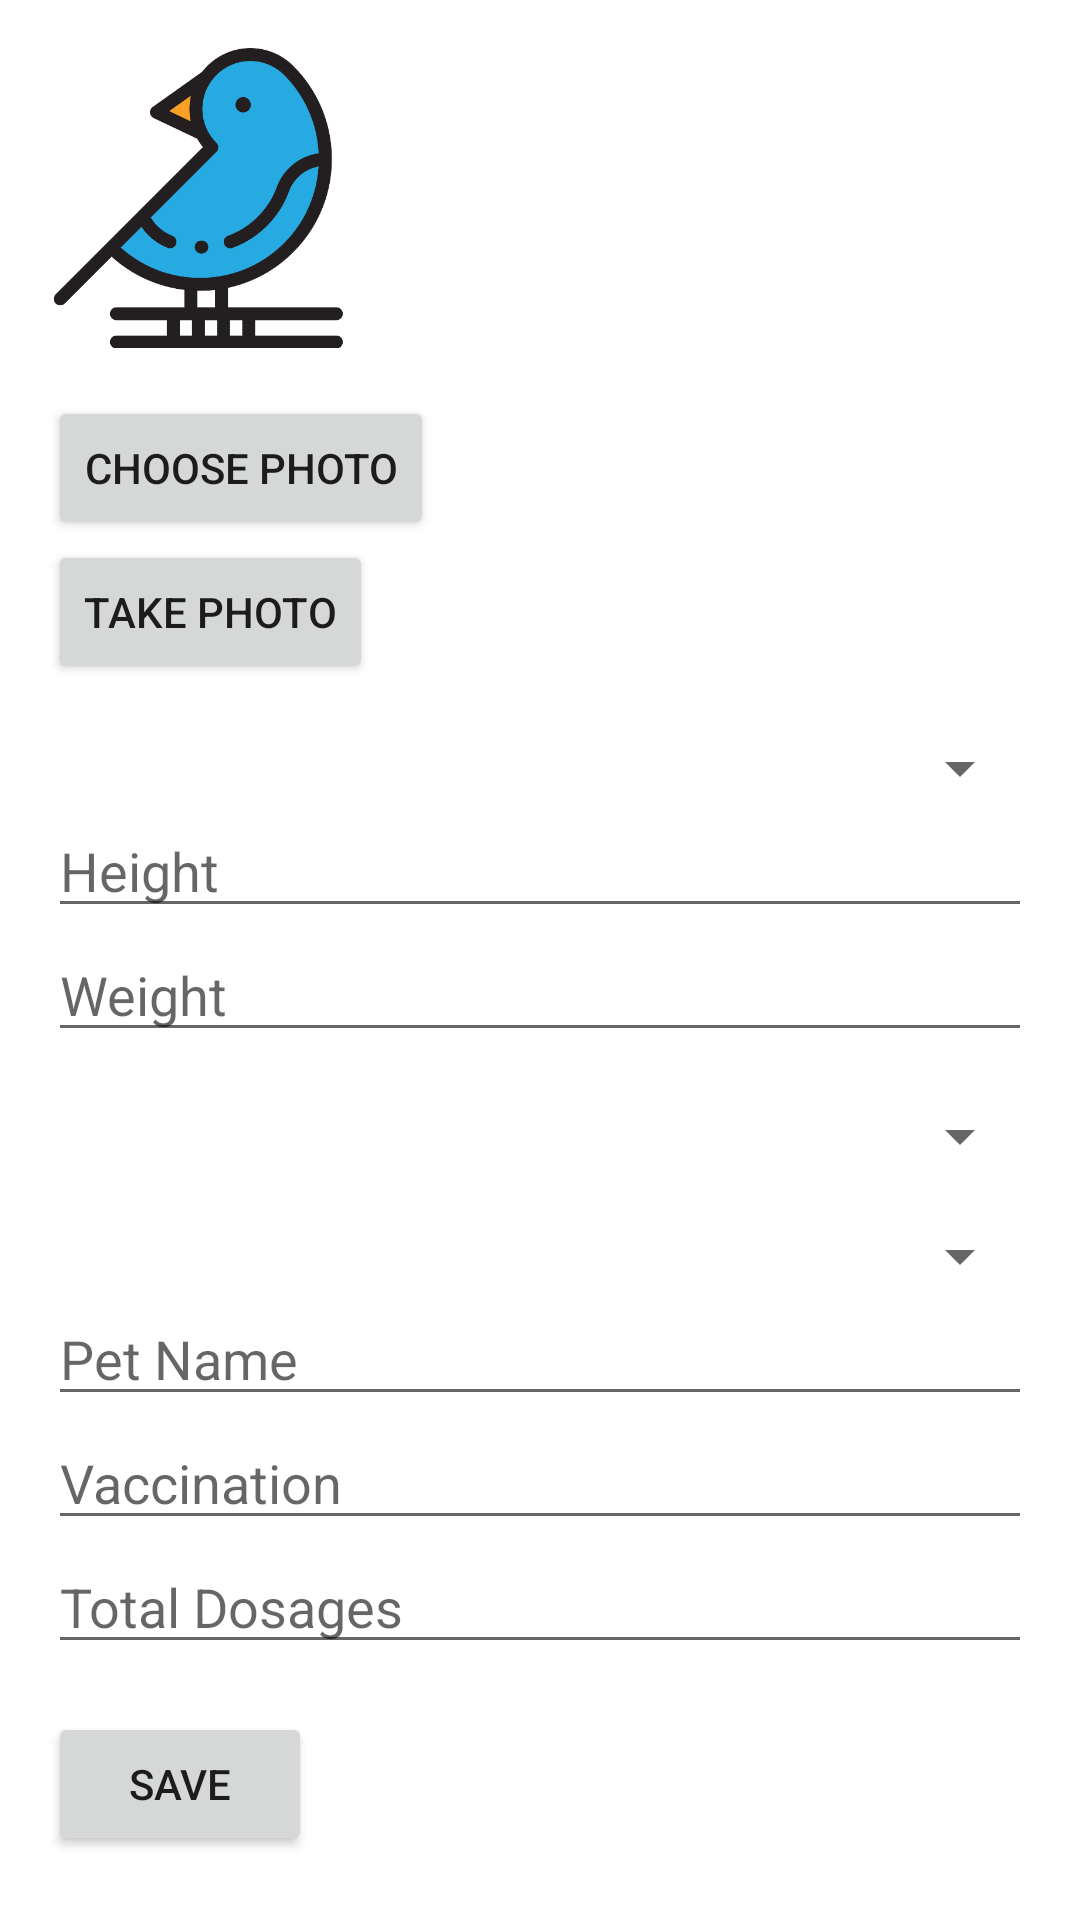

Named icons in this screenshot (1080w x 1920h) and their centers, (x,y):
bbird: (198,198)
